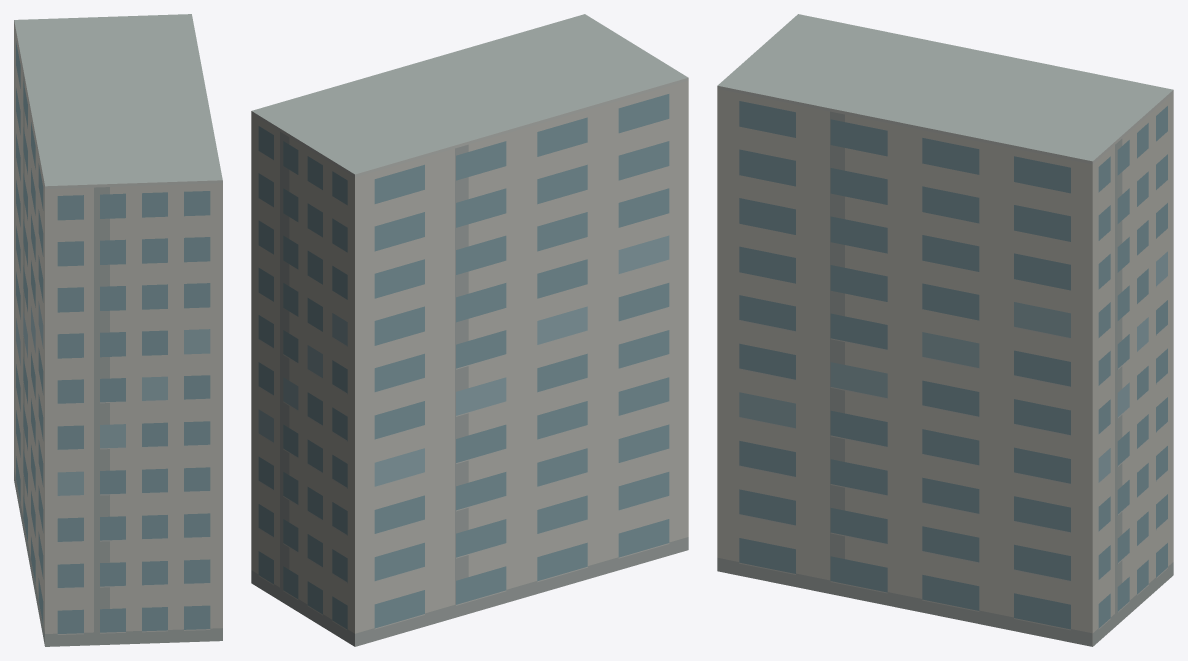
Rendered from residential-99f12dbf-4e3c-4698-be90-402a2fb3369b.glb.
The picture shows the model from 3 angles, left to right: view 1: azimuth 30°, elevation 25°; view 2: azimuth 150°, elevation 25°; view 3: azimuth 270°, elevation 25°; orthographic projection. The views are drawn at different scales.
Parts seen in each view (by area): view 1: residential-99f12dbf-4e3c-4698-be90-402a2fb3369b.tmp; view 2: residential-99f12dbf-4e3c-4698-be90-402a2fb3369b.tmp; view 3: residential-99f12dbf-4e3c-4698-be90-402a2fb3369b.tmp.
Boxes of the visible parts, left/top/right/bottom form: residential-99f12dbf-4e3c-4698-be90-402a2fb3369b.tmp: left=14, top=14, right=222, bottom=646; residential-99f12dbf-4e3c-4698-be90-402a2fb3369b.tmp: left=251, top=14, right=688, bottom=646; residential-99f12dbf-4e3c-4698-be90-402a2fb3369b.tmp: left=717, top=14, right=1173, bottom=646.
Size of the model in its own units: 24.74 by 38 by 32.37.
